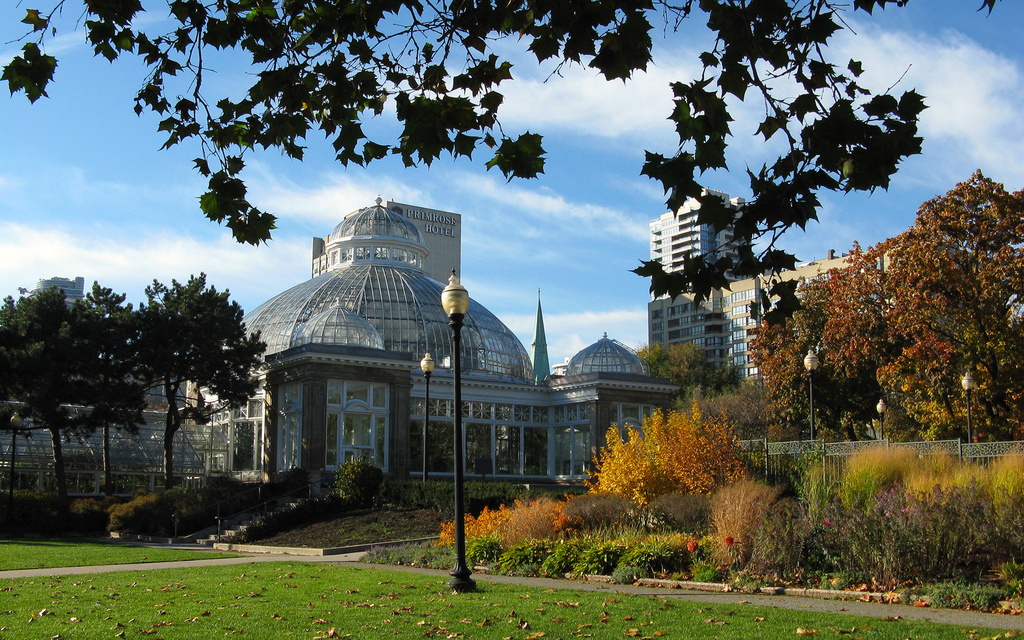Tree: (0, 0, 933, 318), (744, 167, 1023, 445), (133, 269, 266, 497), (61, 279, 146, 499), (0, 282, 85, 481), (638, 340, 748, 398)
